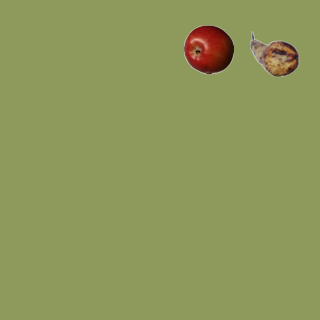Apple Braeburn: (183, 24, 233, 74)
Pear Abate: (249, 29, 299, 79)
